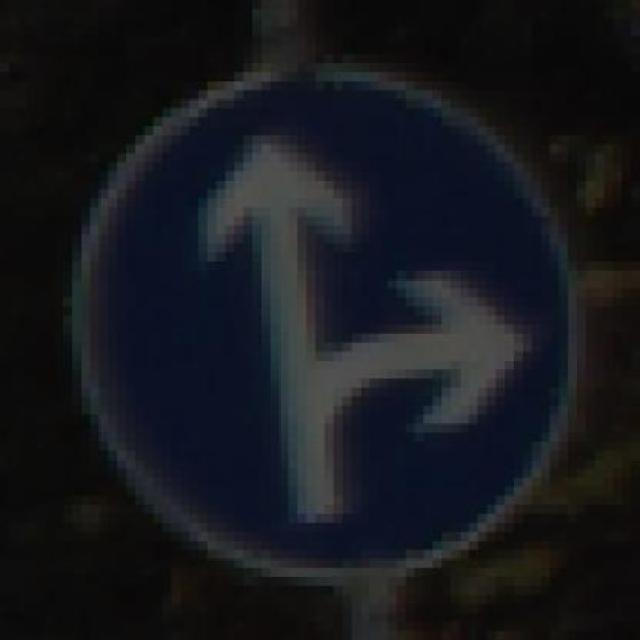Go Straight or Turn Right: (54, 44, 586, 596)
